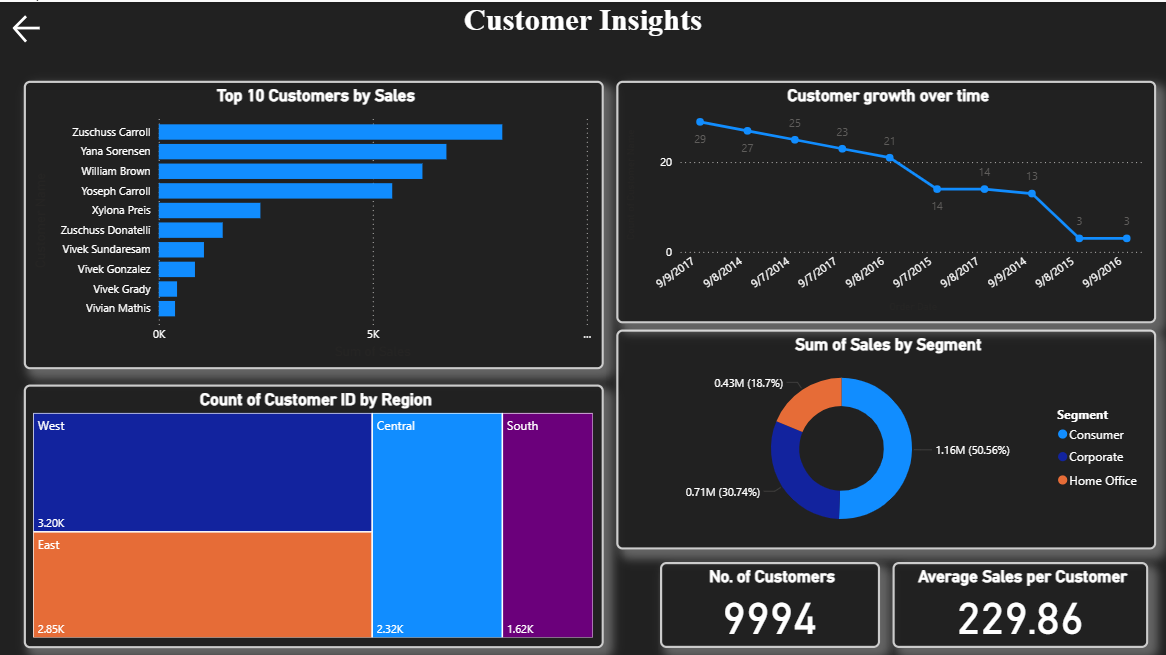

The dashboard page shown, as its layout file describes it:
{"tool":"powerbi","page":{"name":"Customer insights","canvas":[1280,720],"ordinal":2},"visuals":[{"type":"barChart","title":"Top 10 Customers by Sales","fields":{"Y":["Sample - Superstore.Sales"],"Category":["Sample - Superstore.Customer Name"]},"box":[26.1,86.4,636.7,317],"z":0},{"type":"donutChart","fields":{"Y":["Sample - Superstore.Sales"],"Category":["Sample - Superstore.Segment"]},"box":[676.5,359.5,592.8,241.5],"z":1000},{"type":"treemap","fields":{"Group":["Sample - Superstore.Region"],"Values":["Sample - Superstore.Customer ID"]},"box":[26.1,419.9,636.7,289.5],"z":2000},{"type":"lineChart","title":"Customer growth over time","fields":{"Category":["Sample - Superstore.Order Date"],"Y":["Sample - Superstore.Customer Name"]},"box":[676.5,86.4,592.8,266.2],"z":3000},{"type":"card","title":"No. of Customers","fields":{"Values":["Sample - Superstore.Customer ID"]},"box":[725.1,614.1,241.3,94.1],"z":4000},{"type":"card","title":"Average  Sales per Customer","fields":{"Values":["Sample - Superstore.Sales"]},"box":[979.6,614.1,281.1,94.1],"z":5000},{"type":"textbox","title":"Customer Insights","box":[0,0,1280,108.6],"z":6000},{"type":"actionButton","box":[10,10,100,40],"z":7000}]}

Visuals, with their boxes in screenshot pixels (x1, y1, x2, y2), scaled from the page's 1280x720 canvas onto the 1166x655 screenshot:
"Top 10 Customers by Sales" barChart: 24/79/604/367
donutChart - Sample - Superstore.Sales x Sample - Superstore.Segment: 616/327/1156/547
treemap - Sample - Superstore.Region x Sample - Superstore.Customer ID: 24/382/604/645
"Customer growth over time" lineChart: 616/79/1156/321
"No. of Customers" card: 661/559/880/644
"Average  Sales per Customer" card: 892/559/1148/644
"Customer Insights" textbox: 0/0/1165/99
actionButton: 9/9/100/45
